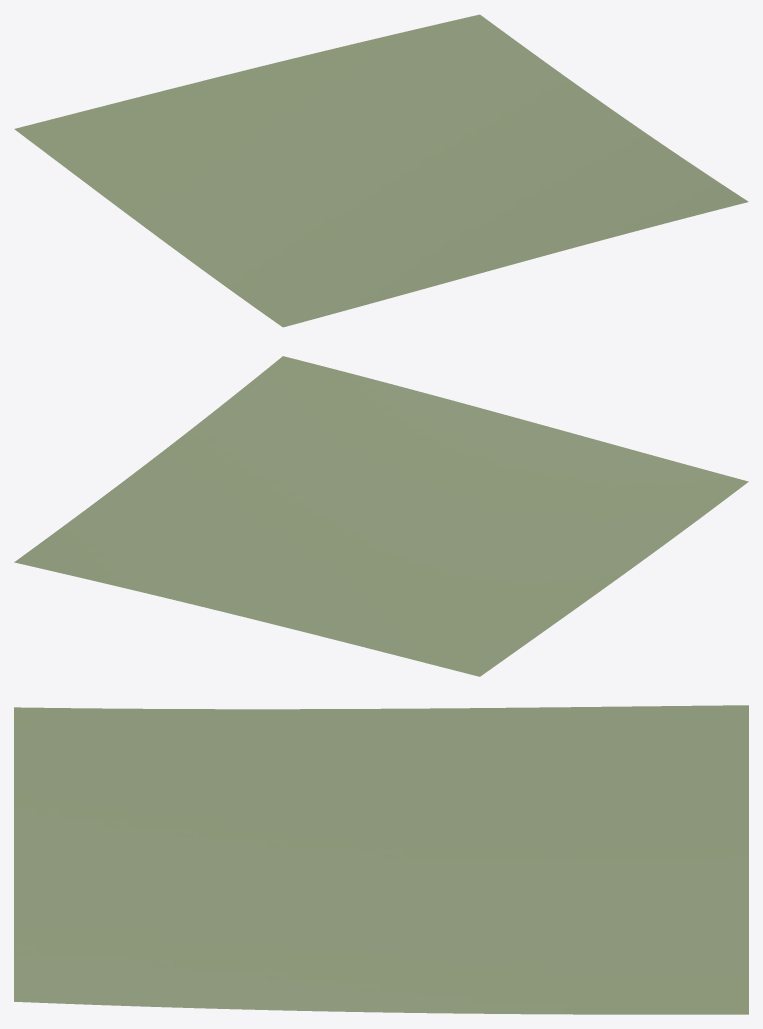
The model's file is expanse-16-13.glb.
3 views of the same model, one above another, from view 1: azimuth 30°, elevation 25°; view 2: azimuth 150°, elevation 25°; view 3: azimuth 270°, elevation 25° (orthographic). The views are drawn at different scales.
Parts seen in each view (by area): view 1: expanse-16-13; view 2: expanse-16-13; view 3: expanse-16-13.
Part boxes in pixels (box(x1,y1,x2,y2)): expanse-16-13: box(14, 14, 748, 327); expanse-16-13: box(14, 356, 748, 676); expanse-16-13: box(14, 705, 748, 1014).
Bounding box in the file's own units: 256 × 6.93 × 256.
